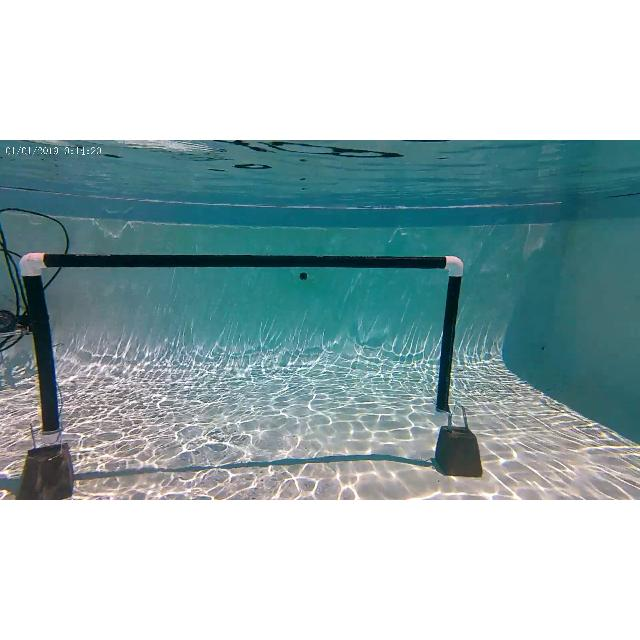prequal gate: (22, 252, 464, 500)
prequal gate leg l: (14, 252, 76, 500)
prequal gate leg r: (438, 253, 484, 479)
